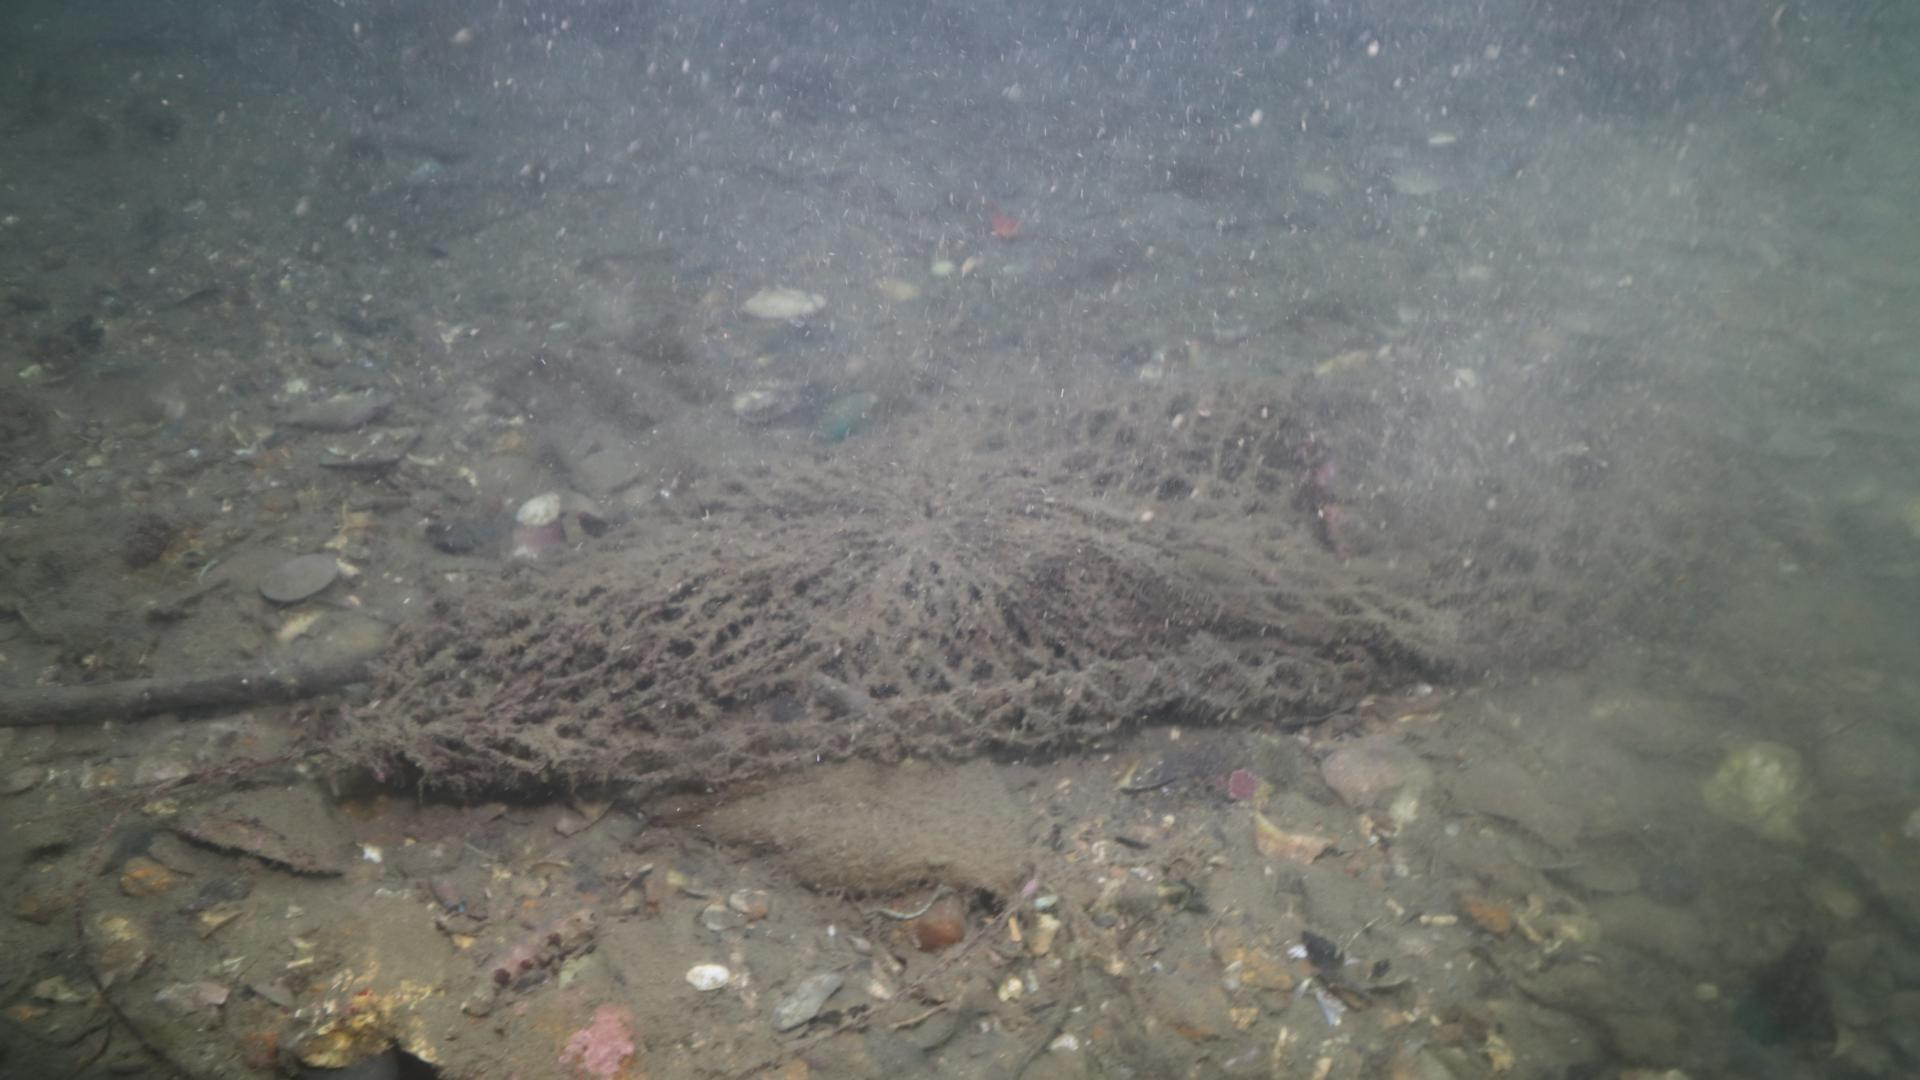fish net: (285, 382, 1622, 781)
